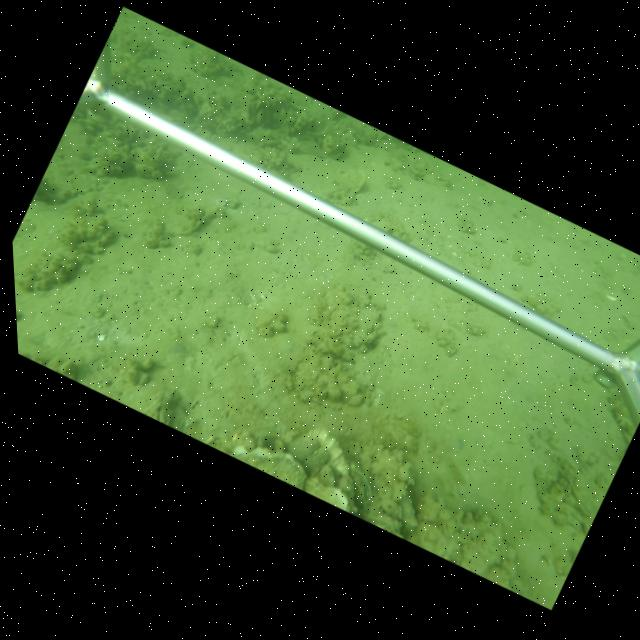Oyster-Closed: (348, 463, 374, 507), (302, 446, 330, 473), (318, 463, 335, 490)
Oyster-Indeterminate: (169, 208, 213, 236), (283, 436, 324, 464), (330, 164, 366, 192)
